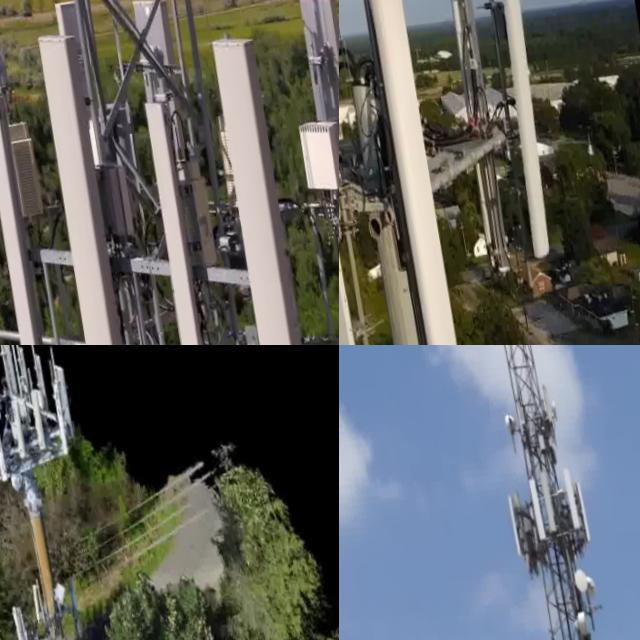GSM Antenna: (345, 0, 487, 345), (203, 21, 337, 345), (24, 25, 155, 345), (122, 0, 229, 293), (472, 0, 564, 251), (48, 0, 135, 257), (440, 0, 523, 264), (289, 0, 339, 345), (0, 83, 54, 345), (49, 355, 78, 429), (537, 461, 562, 540), (6, 390, 33, 459), (504, 486, 529, 558), (525, 472, 551, 541), (562, 459, 586, 530), (28, 379, 51, 448), (576, 478, 598, 545), (30, 345, 48, 397), (0, 345, 18, 397), (0, 401, 11, 484), (13, 345, 30, 390)
Microwave Antenna: (572, 603, 596, 636), (571, 560, 589, 590), (550, 388, 562, 423), (503, 408, 518, 434), (586, 569, 600, 593)
